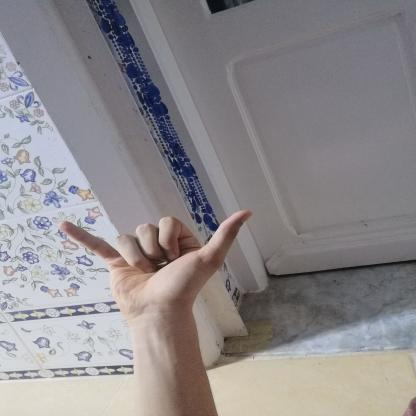YA: (45, 204, 268, 318)
